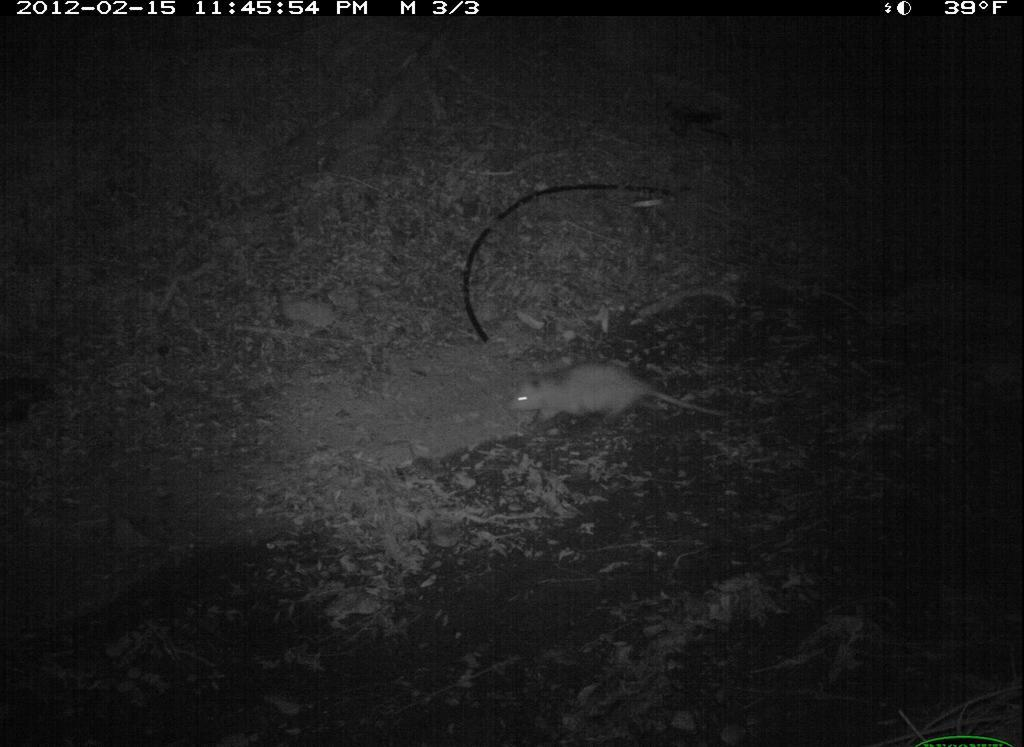opossum: (499, 350, 749, 443)
